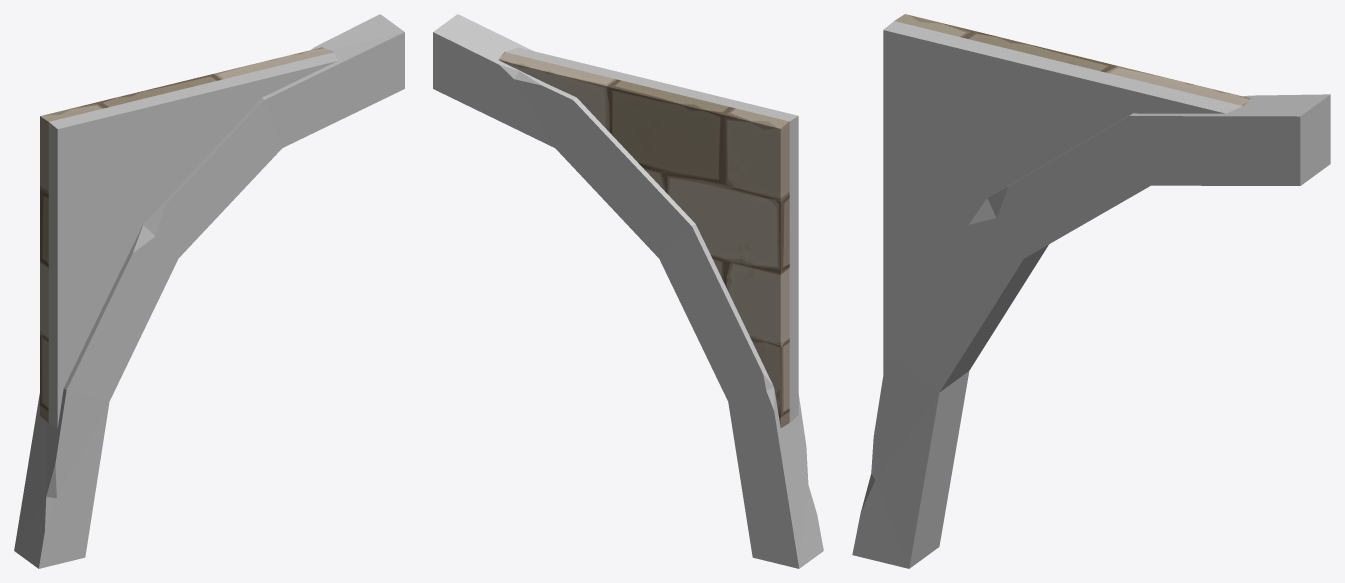
Rendered from SM_Bld_Wall_Arch_Edge_01.fbx.
3 renders of one model, left to right at view 1: azimuth 30°, elevation 25°; view 2: azimuth 150°, elevation 25°; view 3: azimuth 330°, elevation 25°, orthographic. The views are drawn at different scales.
Parts seen in each view (by area): view 1: SM_Bld_Wall_Arch_Edge_01; view 2: SM_Bld_Wall_Arch_Edge_01; view 3: SM_Bld_Wall_Arch_Edge_01.
Boxes of the visible parts, box(x1,y1,x2,y2) form: SM_Bld_Wall_Arch_Edge_01: box(14, 14, 404, 568); SM_Bld_Wall_Arch_Edge_01: box(433, 14, 823, 568); SM_Bld_Wall_Arch_Edge_01: box(852, 14, 1330, 568).
Size of the model in its own units: 266 by 311 by 31.07.
